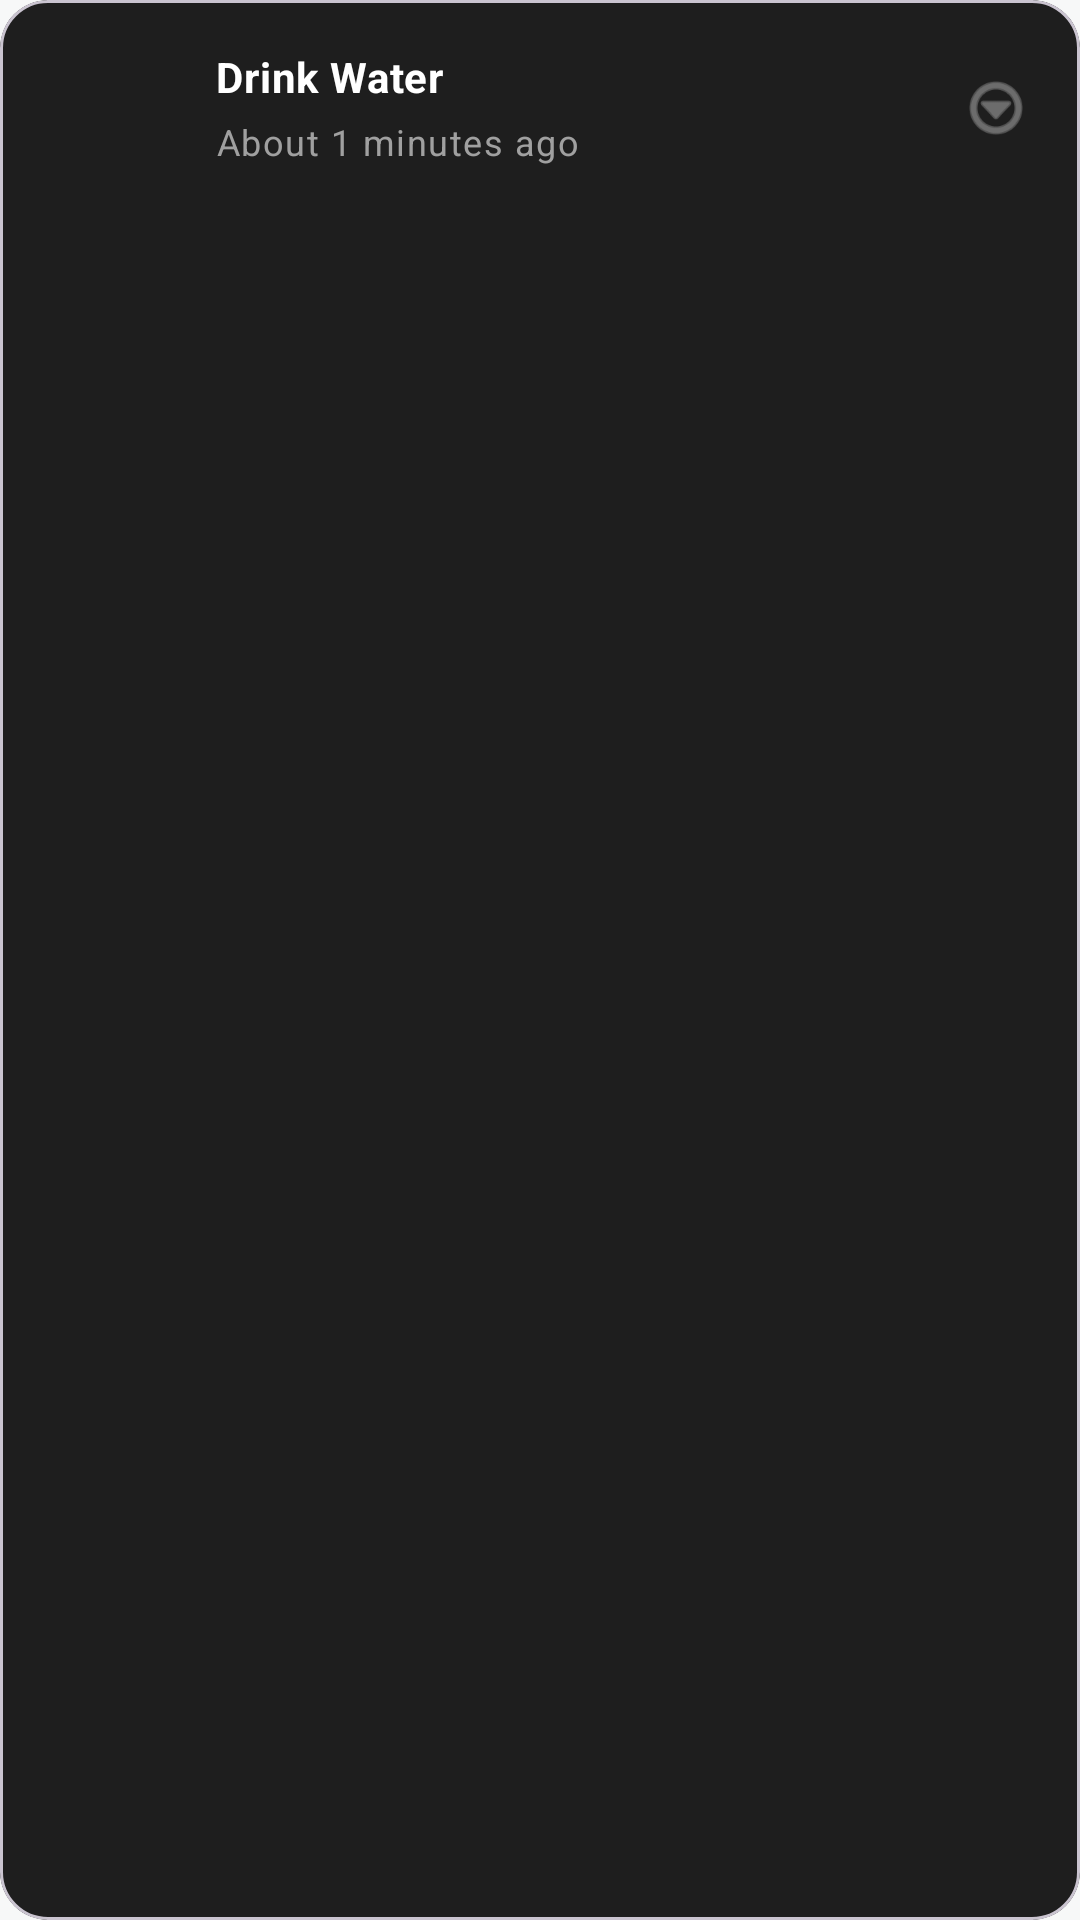

Point at icon controls on the screen. Image size 1080px x 1920px, points as (x=x, y=y).
more: (x=996, y=108)
